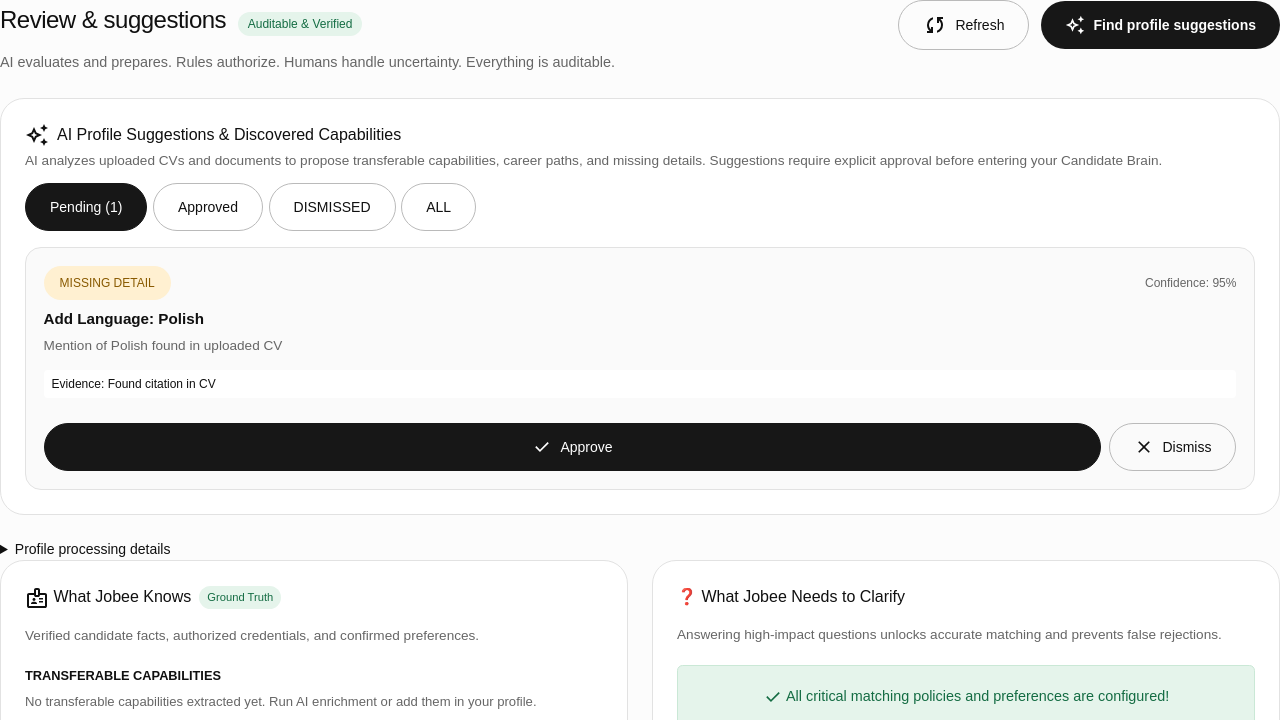
CareerIntelligenceView — Verification & AI Authorization Controls › handles AI enrichment execution and displays created suggestions count
expect the heading "Review & suggestions" is shown: met, box [0, 0, 226, 40]
Step 1. Click the button "Find profile suggestions" → (1161, 25), box [1041, 1, 1279, 49]
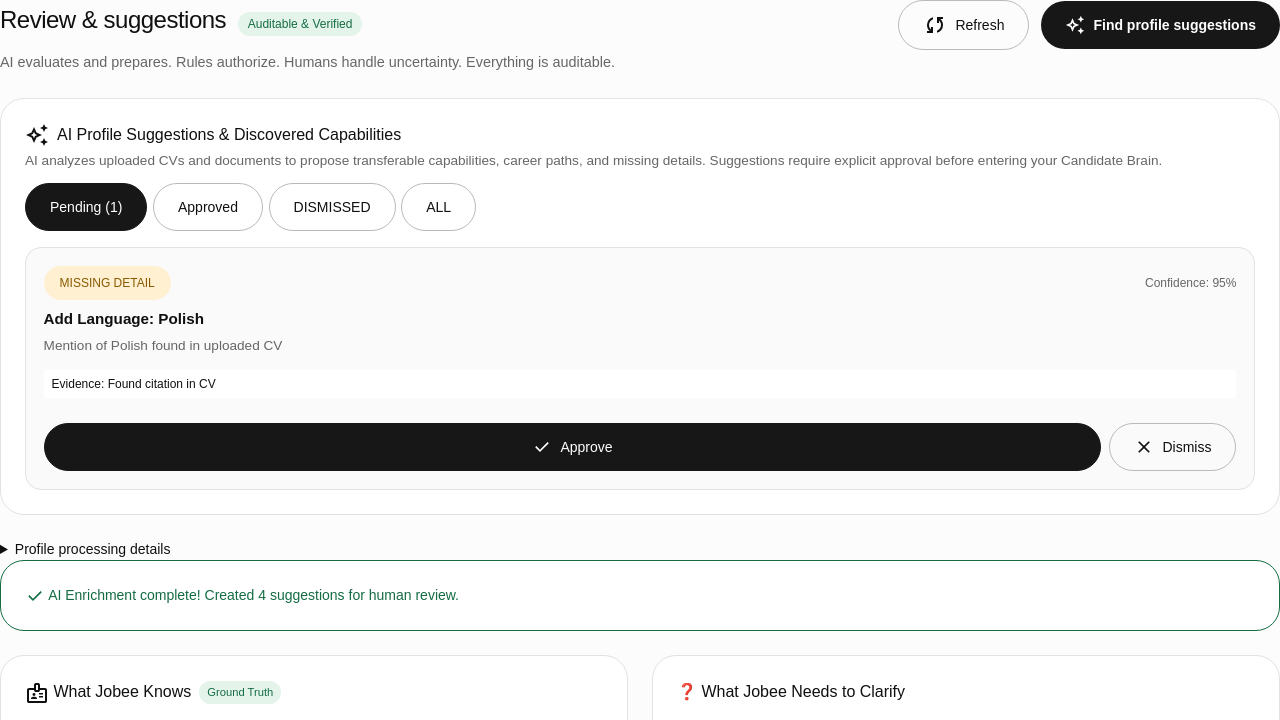
expect the text "AI Enrichment complete! Created 4 suggestions for human review." is shown: met, box [0, 560, 1279, 631]
